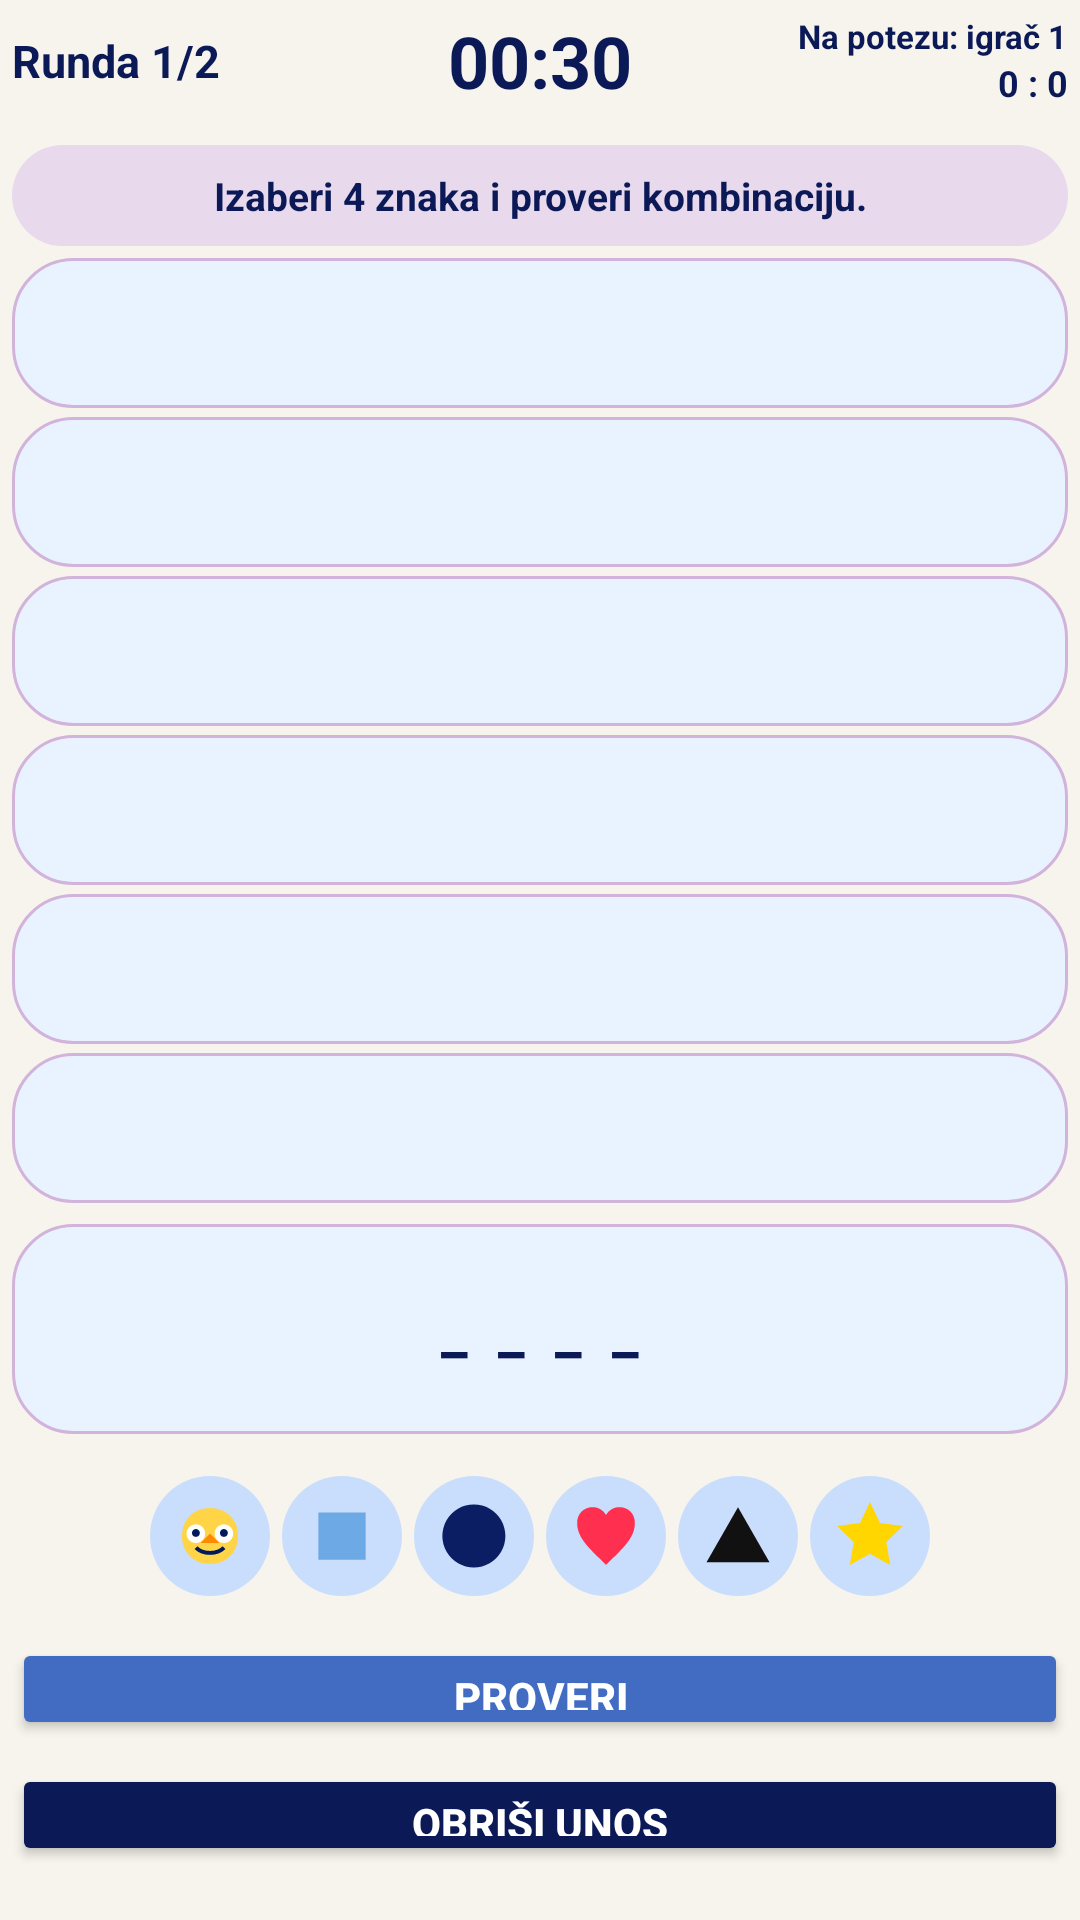

Screen size 1080x1920. Icon name, then its box in pixels as (x1, y1, x2, y2):
circle: (414, 1476, 534, 1596)
heart: (546, 1476, 666, 1596)
square: (282, 1476, 402, 1596)
star: (810, 1476, 930, 1596)
triangle: (678, 1476, 798, 1596)
